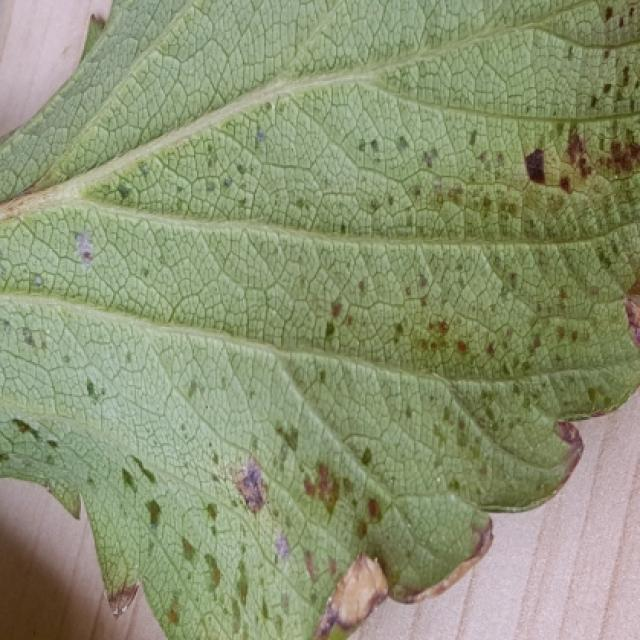Angular Leafspot: (0, 0, 638, 638)
